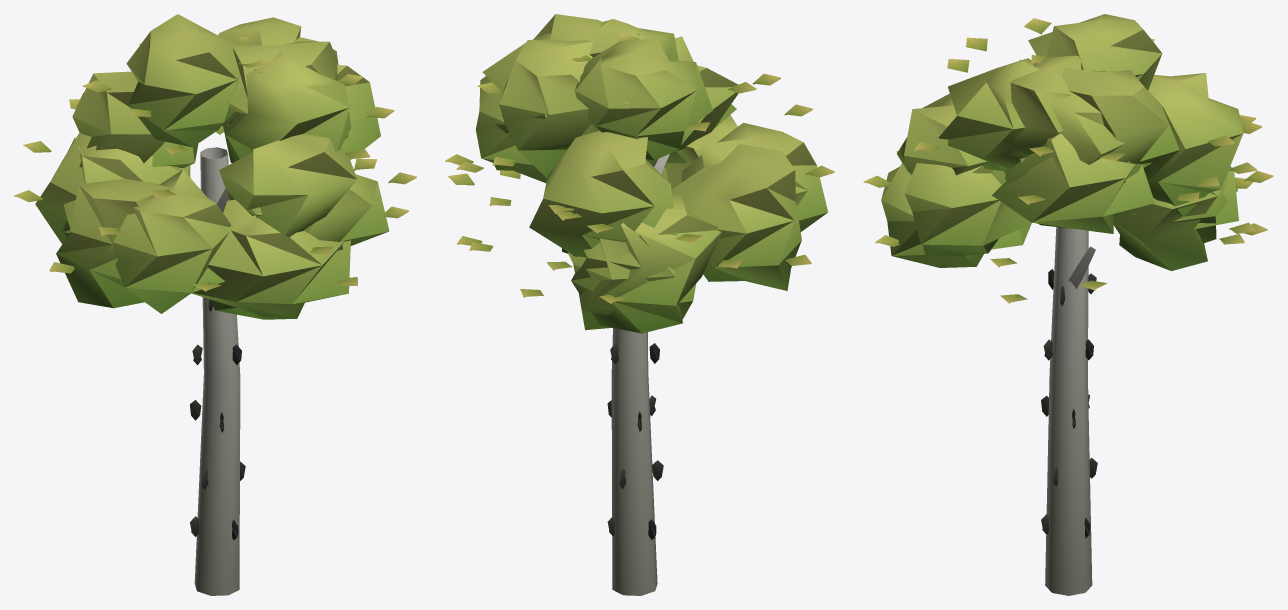
The model's file is aspen.glb.
3 views of the same model, side by side, from view 1: azimuth 30°, elevation 25°; view 2: azimuth 150°, elevation 25°; view 3: azimuth 270°, elevation 25° (orthographic).
Visible parts, largest first — view 1: aspen; view 2: aspen; view 3: aspen.
Boxes of the visible parts, x1,y1,x2,y2 form: aspen: (14, 14, 416, 595); aspen: (445, 14, 834, 595); aspen: (863, 14, 1273, 595).
Bounding box in the file's own units: 0.6852 × 1.04 × 0.6956.
